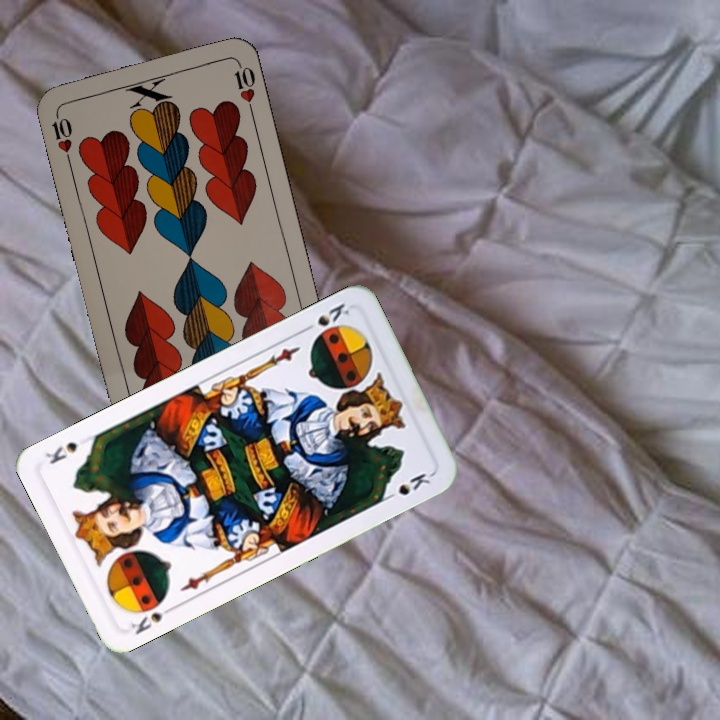H10: (47, 107, 75, 165)
SK: (298, 299, 352, 335), (127, 601, 179, 637)
